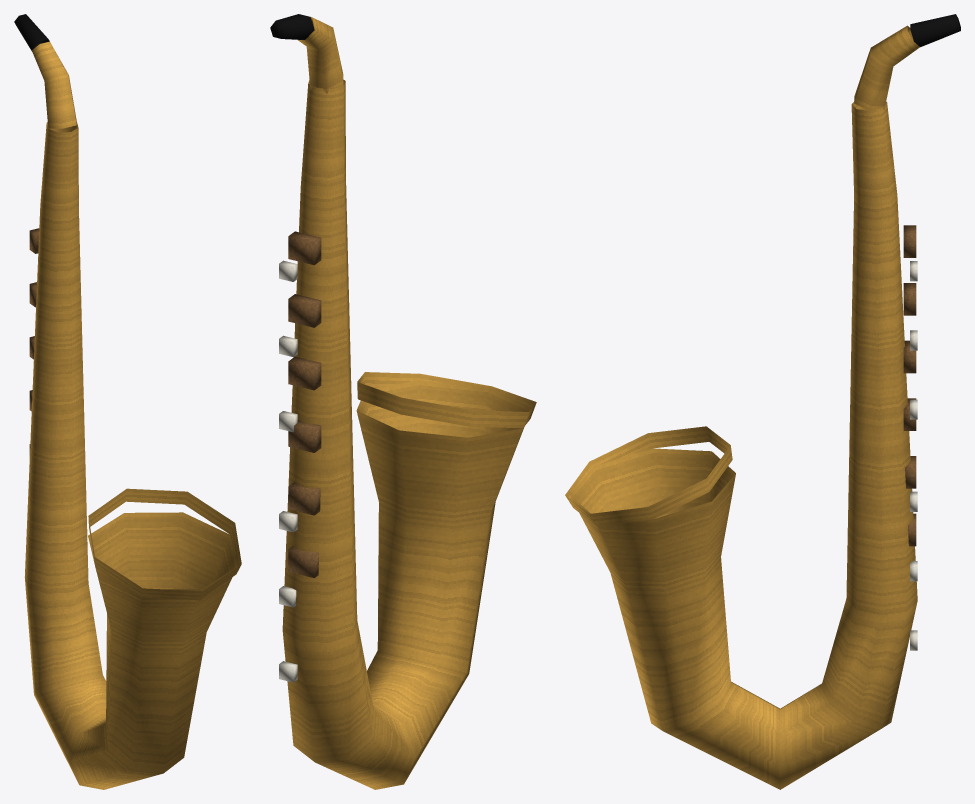
File: alto_sax_1.glb
3 renders of one model, left to right at view 1: azimuth 30°, elevation 25°; view 2: azimuth 150°, elevation 25°; view 3: azimuth 270°, elevation 25°, orthographic. The views are drawn at different scales.
Visible parts, largest first — view 1: alto_sax_1; view 2: alto_sax_1; view 3: alto_sax_1.
Part boxes in pixels (left/top/right/bottom): alto_sax_1: left=14, top=14, right=241, bottom=789; alto_sax_1: left=270, top=14, right=536, bottom=789; alto_sax_1: left=565, top=14, right=960, bottom=789.
Bounding box in the file's own units: 0.1373 × 0.6697 × 0.3111.
Materials: 4 (4 with a texture image).
